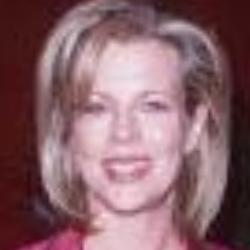face: (23, 3, 235, 239)
